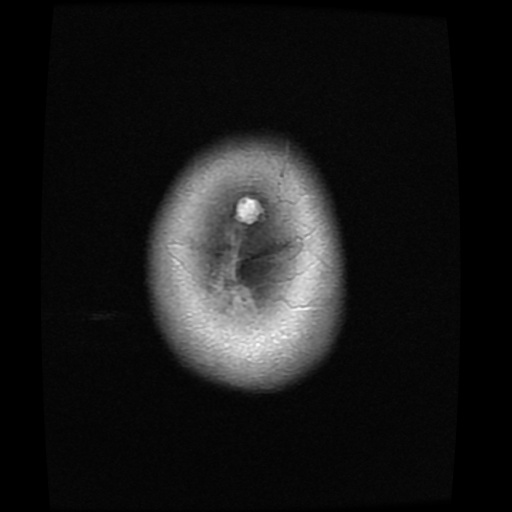meningioma: (234, 196, 262, 222)
